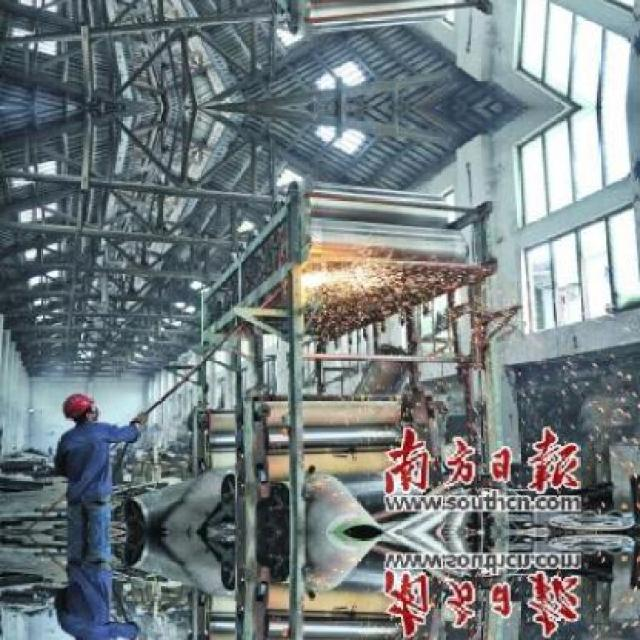helmet: (62, 391, 98, 422)
